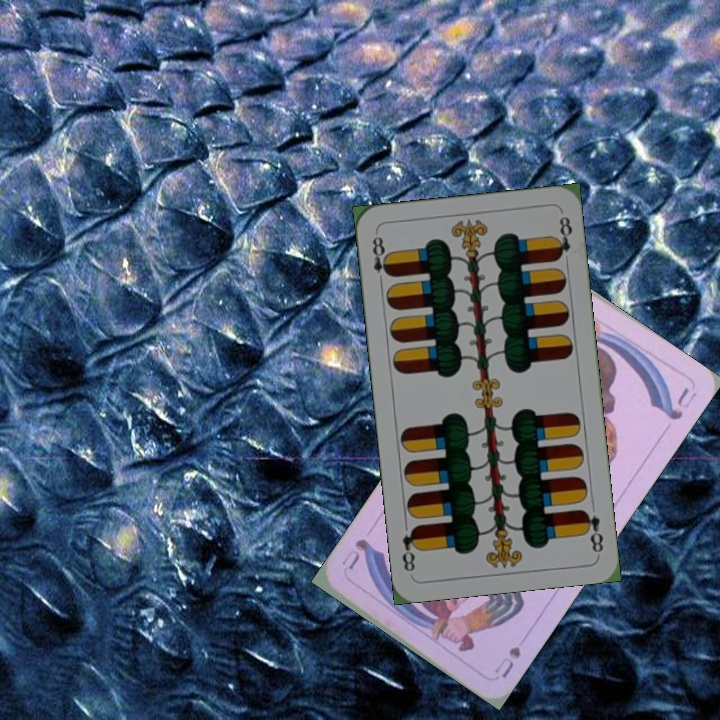E8: (368, 232, 394, 288), (578, 505, 606, 555)
SU: (490, 642, 524, 681)
